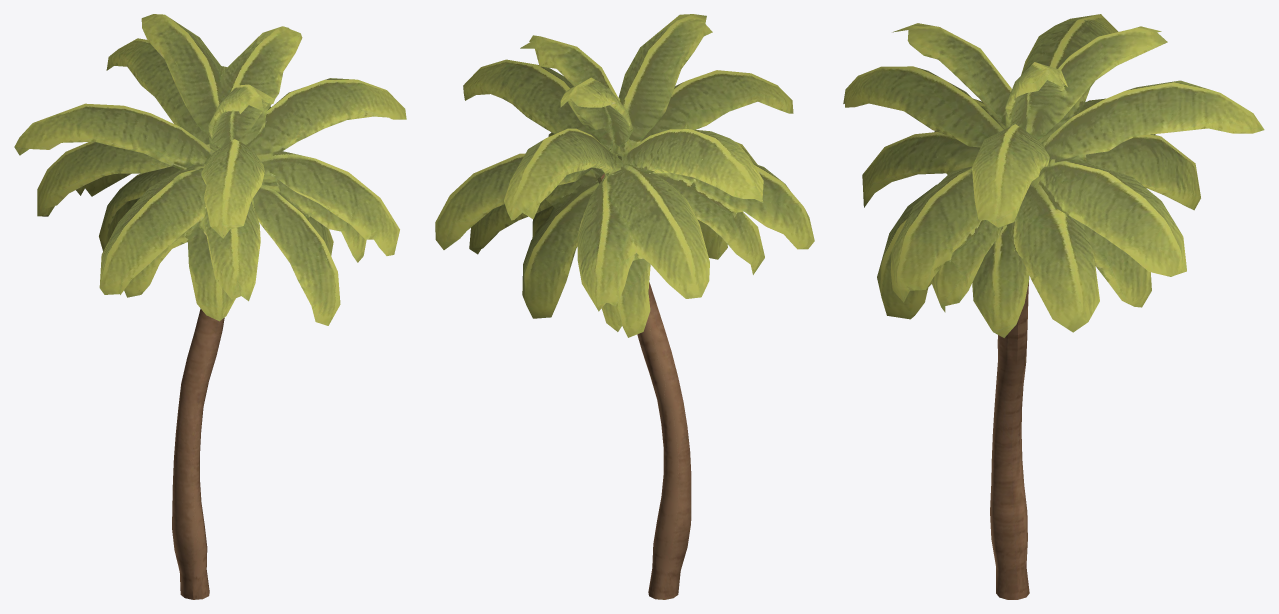
File: palm_b.glb
The picture shows the model from 3 angles, left to right: view 1: azimuth 30°, elevation 25°; view 2: azimuth 150°, elevation 25°; view 3: azimuth 270°, elevation 25°; orthographic projection. The views are drawn at different scales.
Visible parts, largest first — view 1: body; view 2: body; view 3: body.
Part boxes in pixels (bbox=[...]): body: bbox=[14, 14, 406, 599]; body: bbox=[435, 14, 814, 599]; body: bbox=[843, 14, 1264, 599].
Size of the model in its own units: 4.4 by 6.54 by 4.31.
2 materials, 2 textured.
